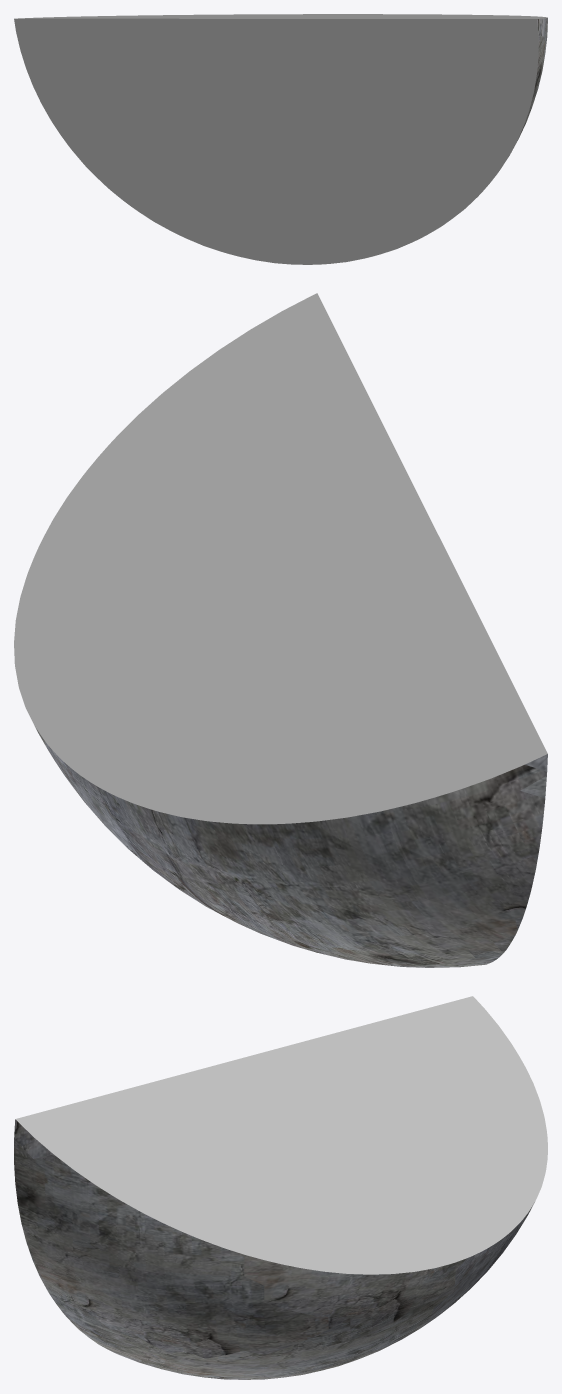
The model's file is sliced_ball2.obj.
3 renders of one model, top to bottom at view 1: azimuth 30°, elevation 25°; view 2: azimuth 150°, elevation 25°; view 3: azimuth 270°, elevation 25°, orthographic. The views are drawn at different scales.
Visible parts, largest first — view 1: Object.1; view 2: Object.1; view 3: Object.1.
Boxes of the visible parts, x1=… form: Object.1: x1=14, y1=14, x2=547, y2=264; Object.1: x1=14, y1=293, x2=547, y2=967; Object.1: x1=14, y1=996, x2=547, y2=1379.
Bounding box in the file's own units: 0.8389 × 0.5536 × 0.8184.
1 material, 1 textured.
